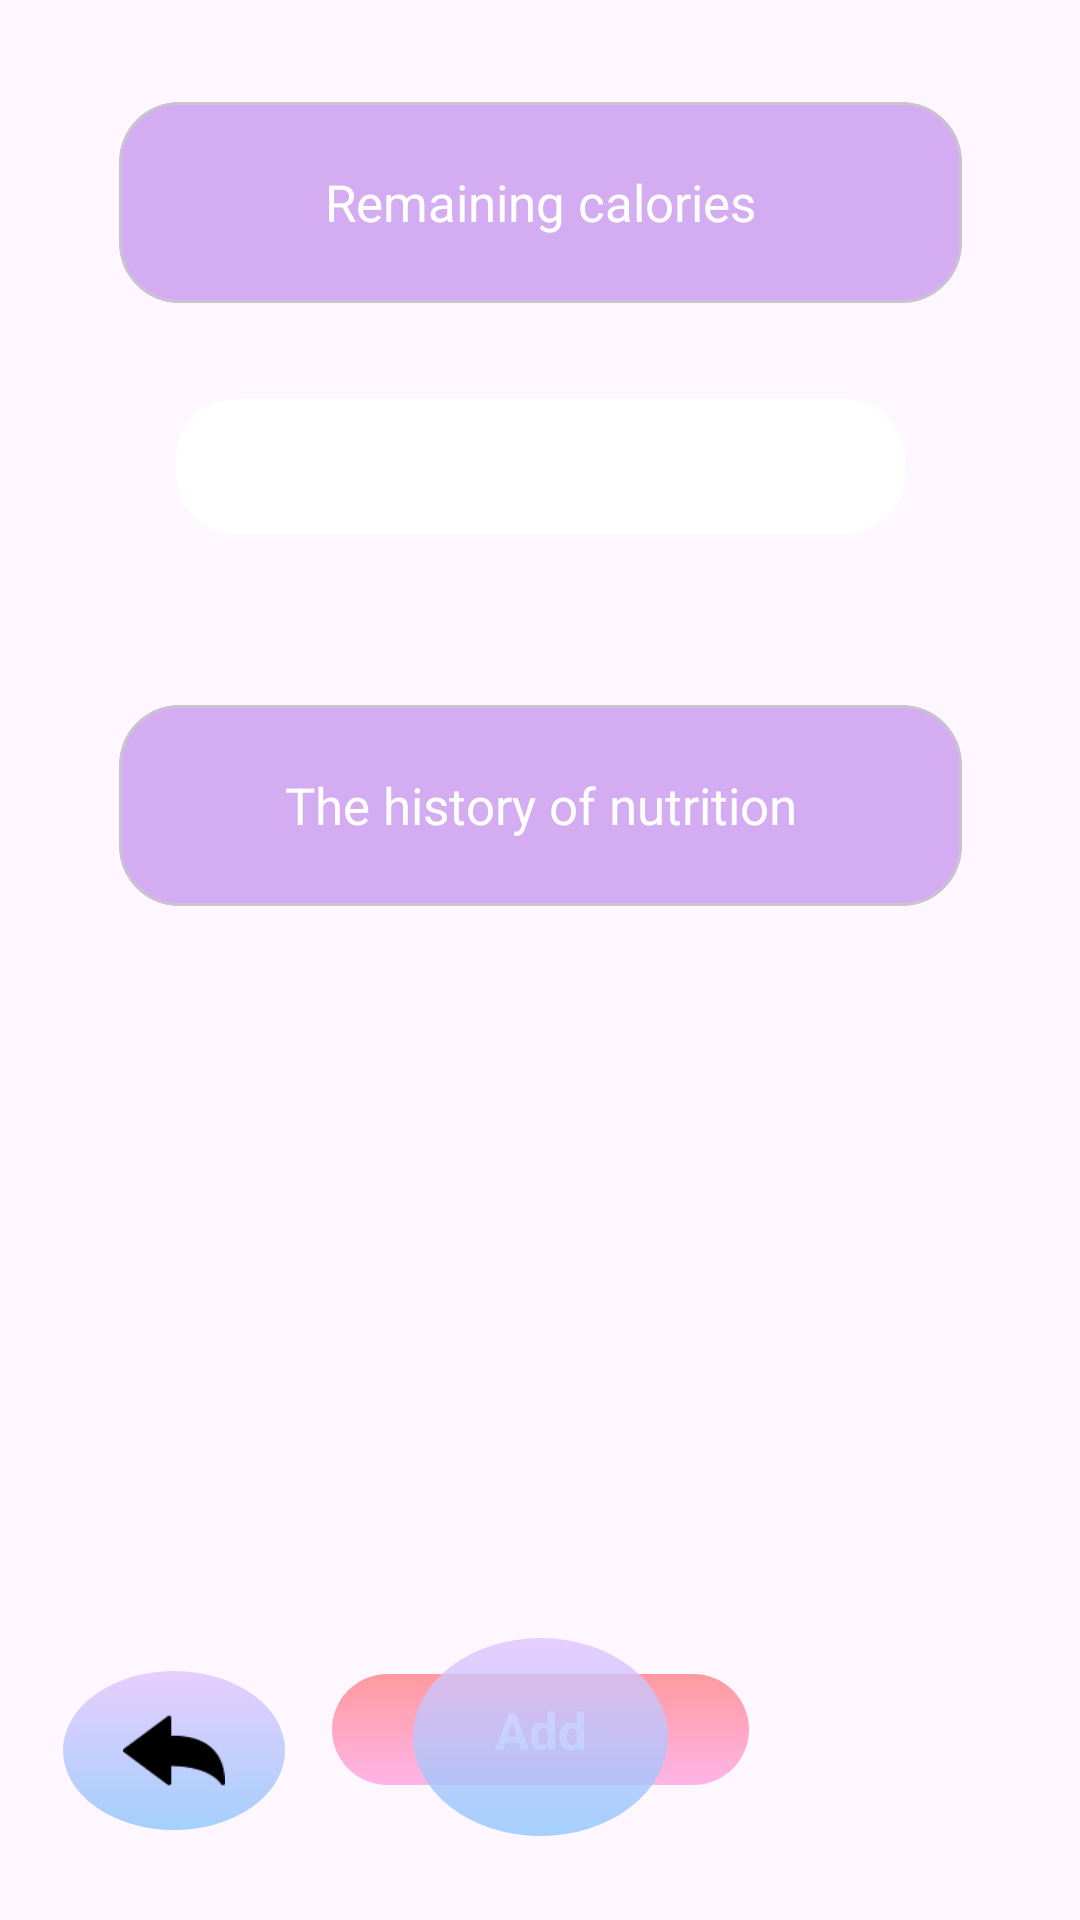

Point at icon controls on the screen. Image size 1080 × 1920, points as (x,y).
turn left: (174,1750)
